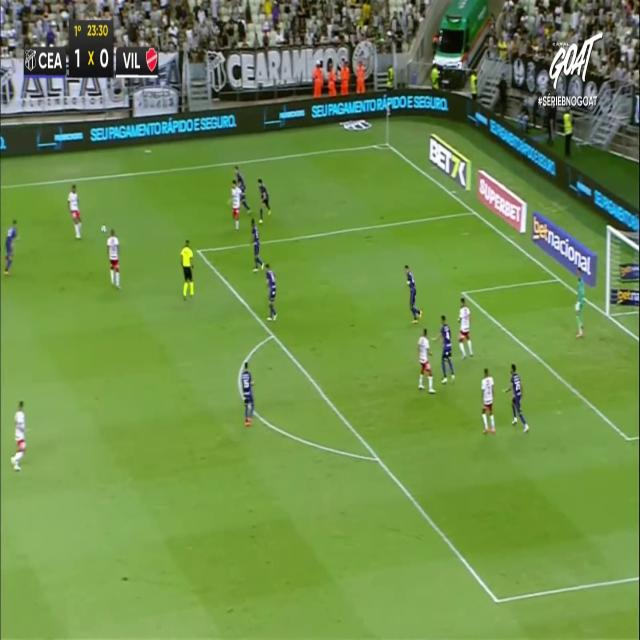ball: (100, 222, 108, 237)
goalkeeper: (575, 265, 584, 336)
player: (503, 361, 528, 432), (435, 314, 455, 382), (10, 399, 27, 470), (418, 327, 435, 392), (404, 264, 422, 323), (239, 361, 255, 426), (457, 295, 473, 358), (481, 367, 496, 433), (2, 217, 19, 274), (226, 179, 245, 230), (106, 228, 120, 288), (68, 183, 82, 238), (250, 217, 264, 272), (265, 261, 277, 320), (258, 177, 271, 221)
referee: (180, 239, 194, 299)
